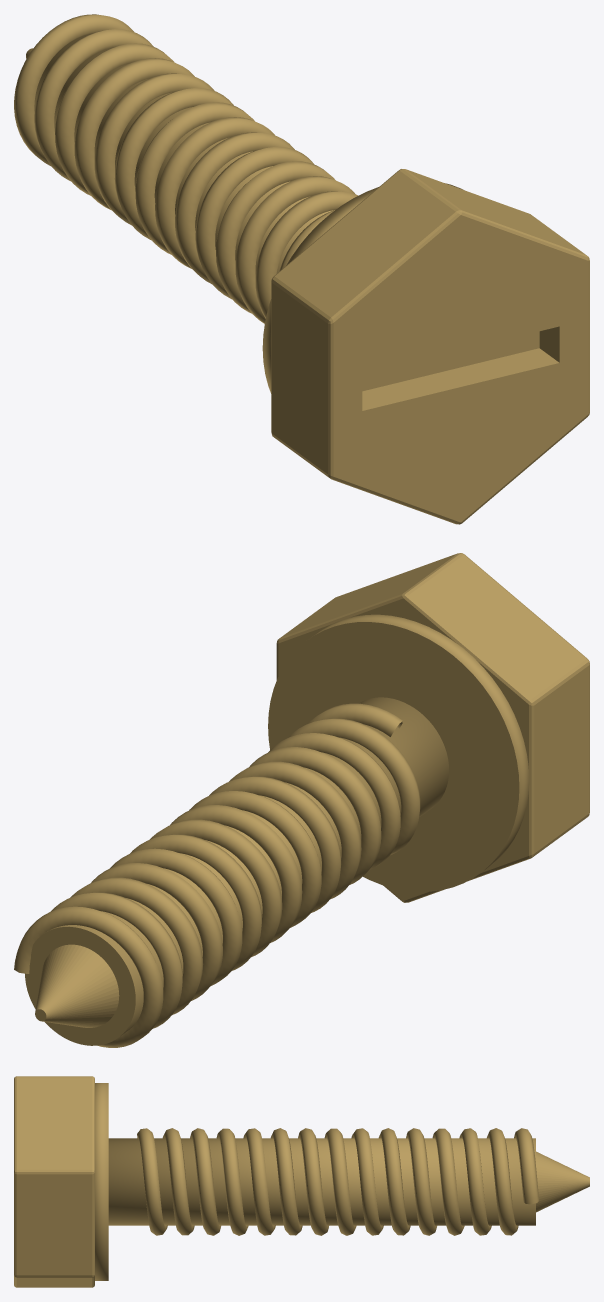
The model's file is screw.glb.
3 renders of one model, top to bottom at view 1: azimuth 30°, elevation 25°; view 2: azimuth 150°, elevation 25°; view 3: azimuth 270°, elevation 25°, orthographic. The views are drawn at different scales.
Visible parts, largest first — view 1: Screw hex head, Continuous screw thread, Screw shank, Screw head washer; view 2: Continuous screw thread, Screw head washer, Screw hex head, Screw shank, Screw pilot tip; view 3: Continuous screw thread, Screw shank, Screw hex head, Screw head washer, Screw pilot tip.
Boxes of the visible parts, left/top/right/bottom form: Screw hex head: left=271, top=169, right=589, bottom=524; Continuous screw thread: left=14, top=14, right=358, bottom=323; Screw shank: left=34, top=33, right=334, bottom=273; Screw head washer: left=262, top=183, right=463, bottom=393; Continuous screw thread: left=14, top=703, right=420, bottom=1047; Screw head washer: left=268, top=614, right=529, bottom=891; Screw hex head: left=276, top=553, right=589, bottom=902; Screw shank: left=25, top=697, right=448, bottom=1045; Screw pilot tip: left=35, top=944, right=119, bottom=1027; Continuous screw thread: left=137, top=1128, right=539, bottom=1235; Screw shank: left=108, top=1138, right=535, bottom=1225; Screw hex head: left=14, top=1076, right=94, bottom=1287; Screw head washer: left=95, top=1083, right=108, bottom=1280; Screw pilot tip: left=536, top=1151, right=589, bottom=1212.
Bounding box in the file's own units: 0.045 × 0.0517 × 0.128.
